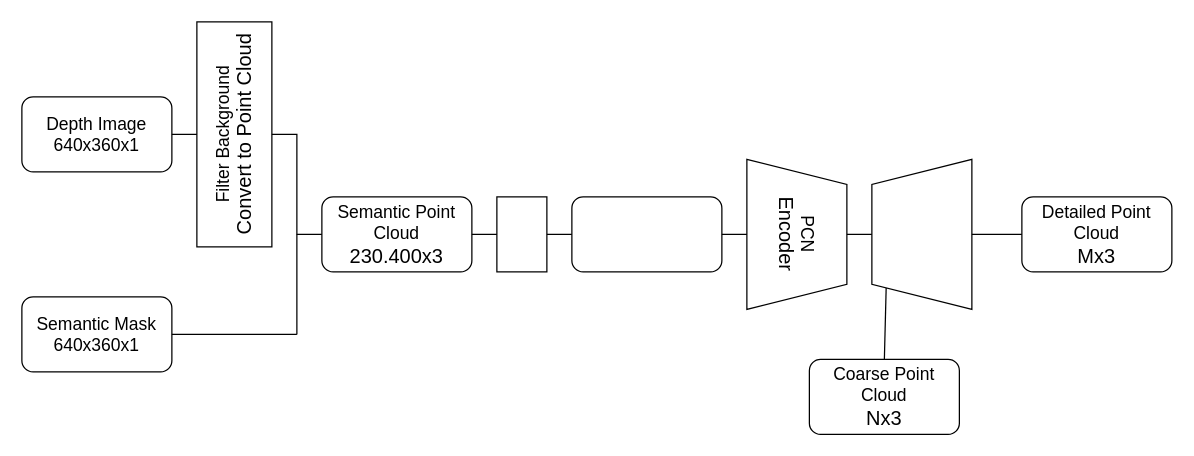
The diagram is 1194 pixels wide and 456 high, and some of its shapes have lost their labels. The centre of each missing label's shape, as x and y in pixels:
FPS: (521,234)
PCN Decoder: (921,233)
Point Cloud N*4: (646,234)
